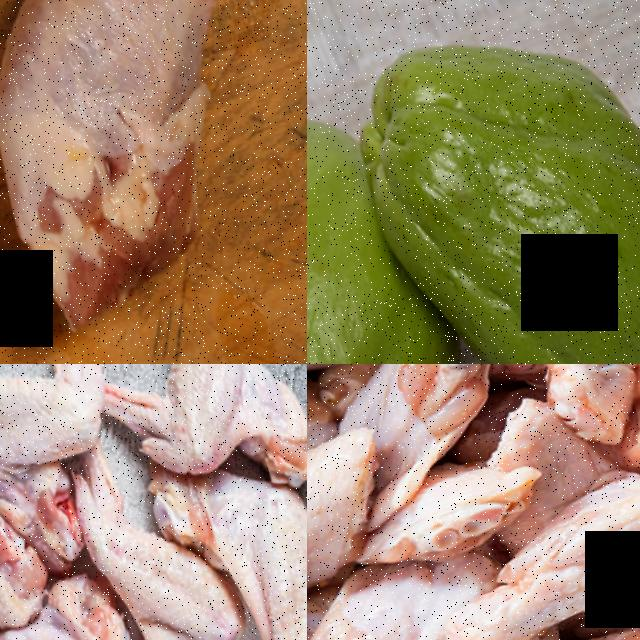chayote: (307, 0, 640, 364), (307, 80, 521, 364)
chicken thigh: (0, 0, 307, 364)
chicken wing: (32, 398, 305, 640), (404, 395, 640, 640), (75, 364, 307, 535), (0, 364, 185, 569), (187, 444, 307, 640), (460, 364, 640, 464), (0, 569, 219, 640)
